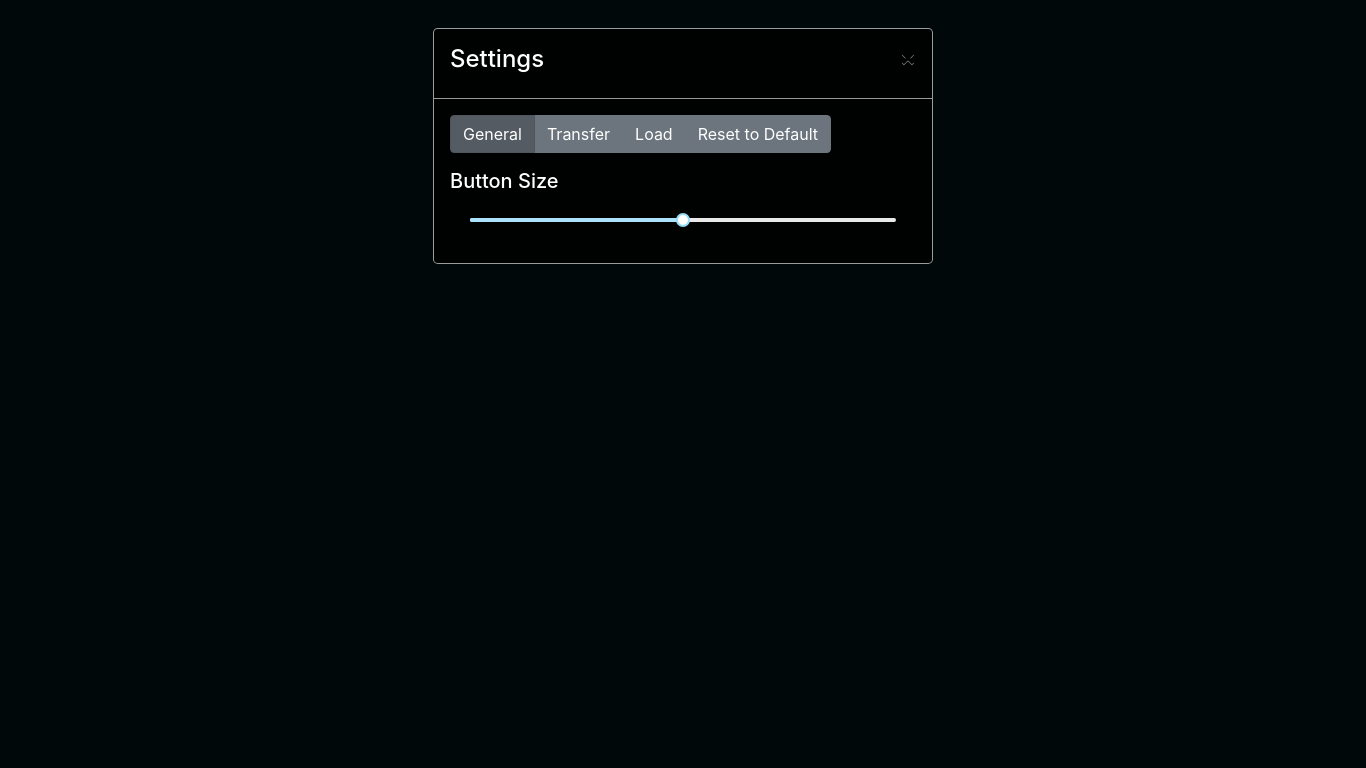
Test: should render transfer tab on transfer button click
Step 1. Click the text "Transfer" → (578, 134), box [534,115,623,153]
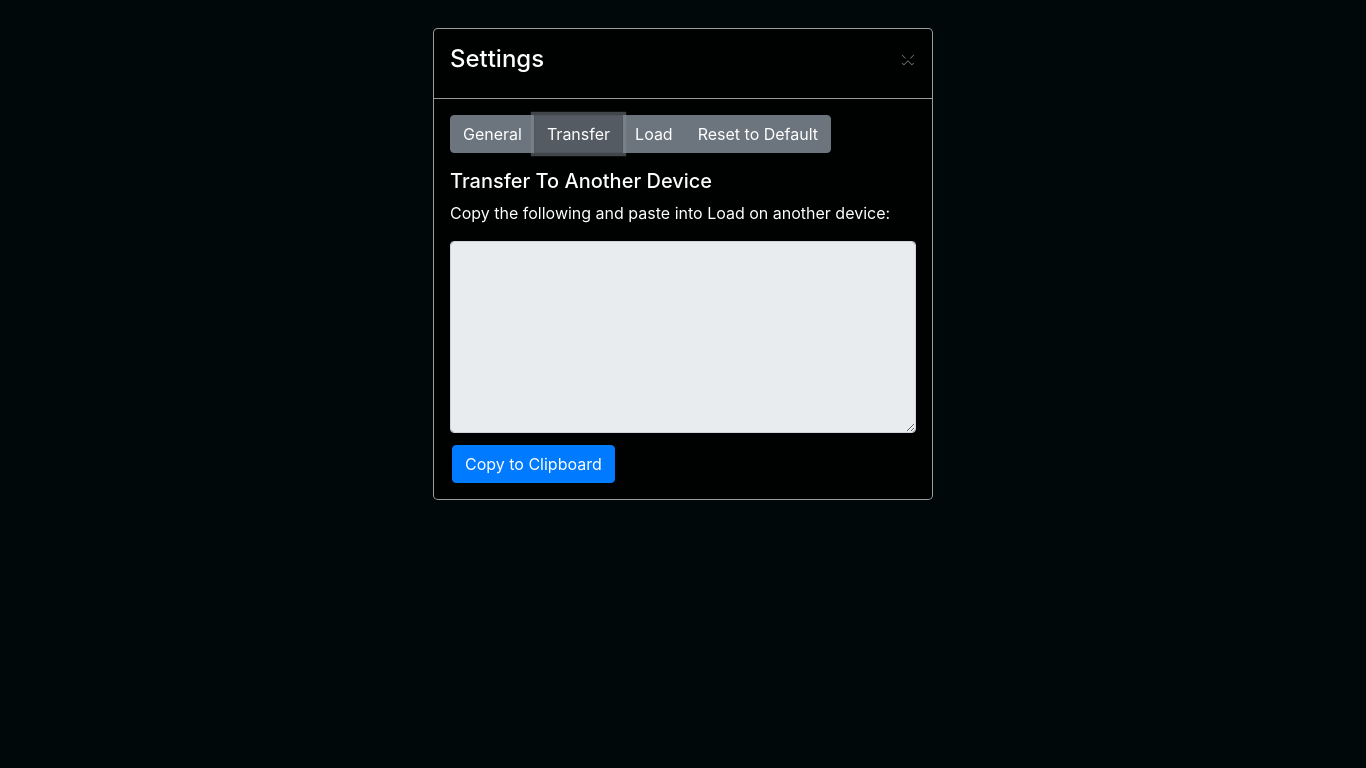
Result: the heading "Transfer To Another Device" is shown at [450,169,712,193]
